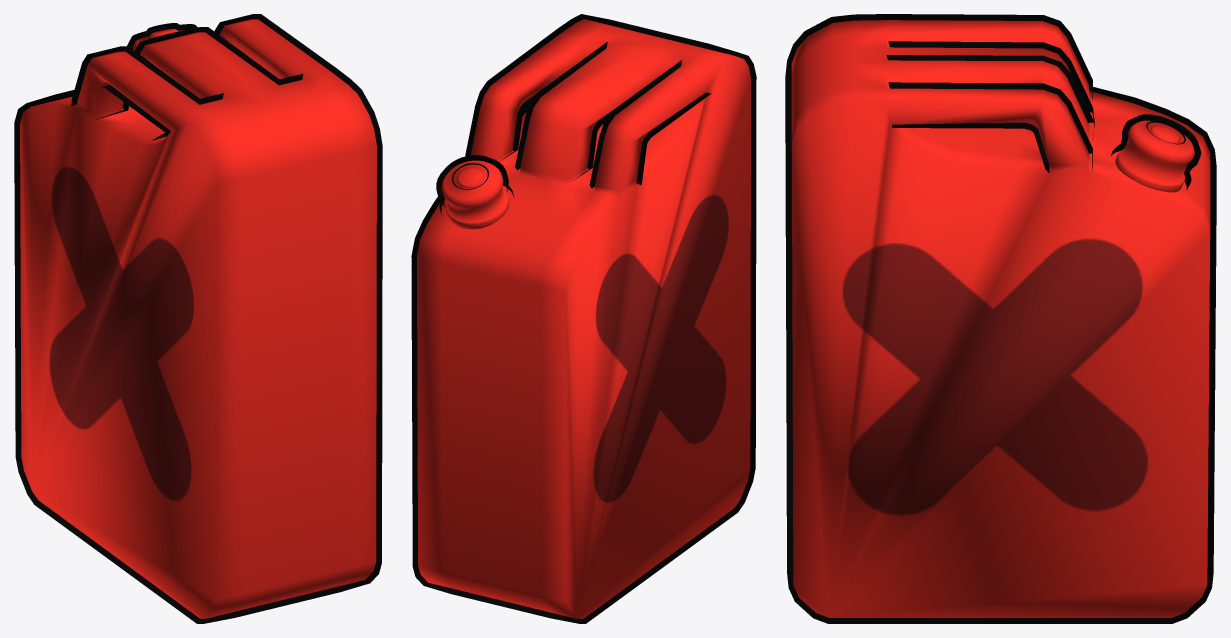
Rendered from canister.fbx.
The picture shows the model from 3 angles, left to right: view 1: azimuth 30°, elevation 25°; view 2: azimuth 150°, elevation 25°; view 3: azimuth 270°, elevation 25°; orthographic projection. The views are drawn at different scales.
Visible parts, largest first — view 1: Cylinder; view 2: Cylinder; view 3: Cylinder.
Part boxes in pixels (left/top/right/bottom): Cylinder: left=14, top=14, right=382, bottom=623; Cylinder: left=411, top=14, right=756, bottom=623; Cylinder: left=785, top=14, right=1216, bottom=623.
Size of the model in its own units: 109 by 308 by 228.
2 materials, 1 textured.
